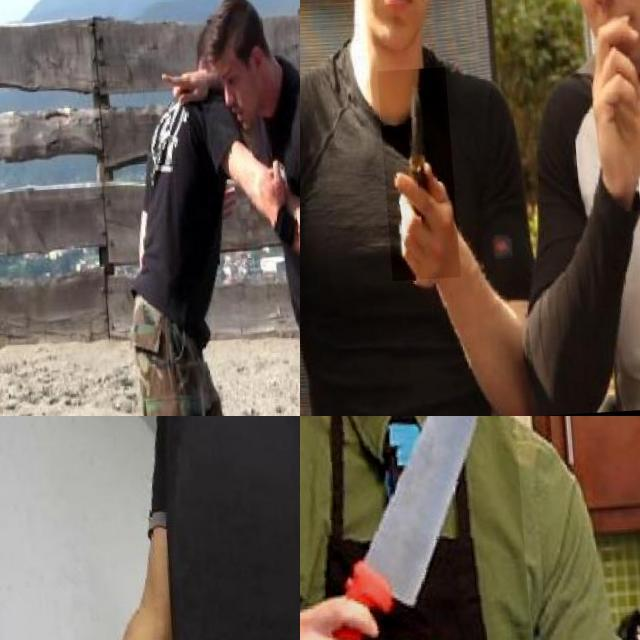-: (300, 416, 526, 640), (373, 70, 453, 284)
